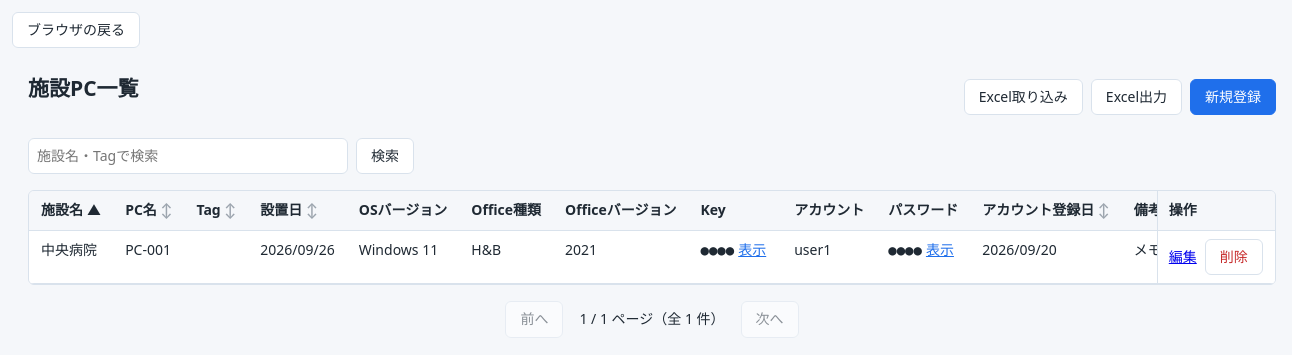
Test case: FacilityPcListPage › Excel出力メニュー › ボタンを押すとメニューが開き、全件出力とアカウント情報出力を選べる
The image size is (1292, 355).
Check: the button "全件出力" is not shown
Click the button "Excel出力": (1136, 97) [1091,79,1182,115]
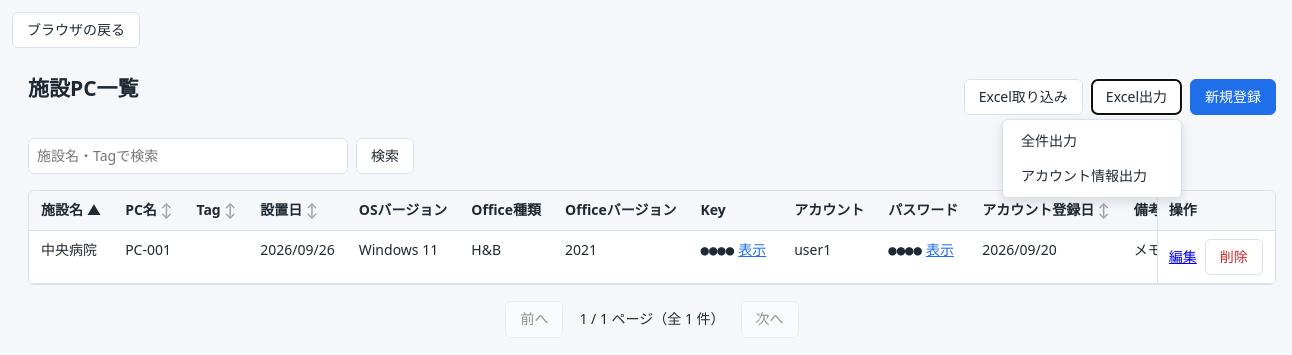
Check: the button "全件出力" is shown, box [1007,124,1177,159]
Check: the button "アカウント情報出力" is shown, box [1007,159,1177,193]
